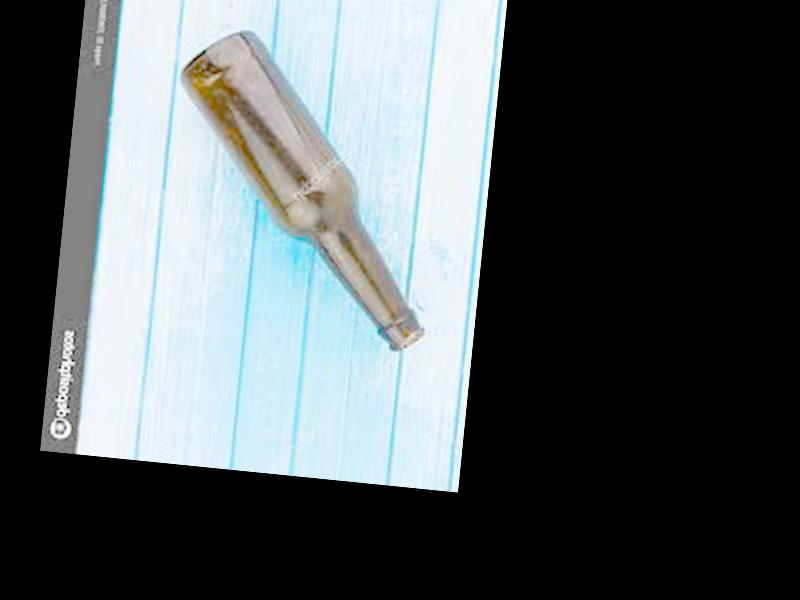Beer: (151, 23, 453, 351)
